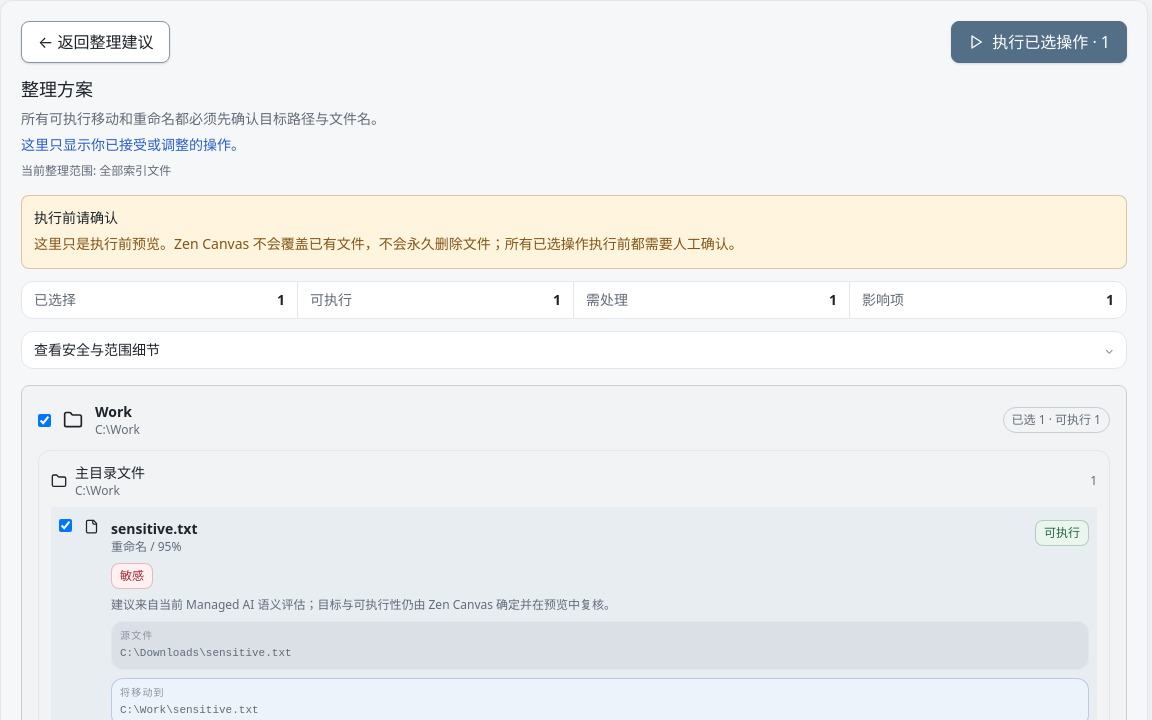
Test: organize v4.2.1 component interactions › renders the sensitive confirmation with real dialog semantics
Click the button "执行已选操作 · 1" at (1039, 42), box 951,21 -> 1127,63
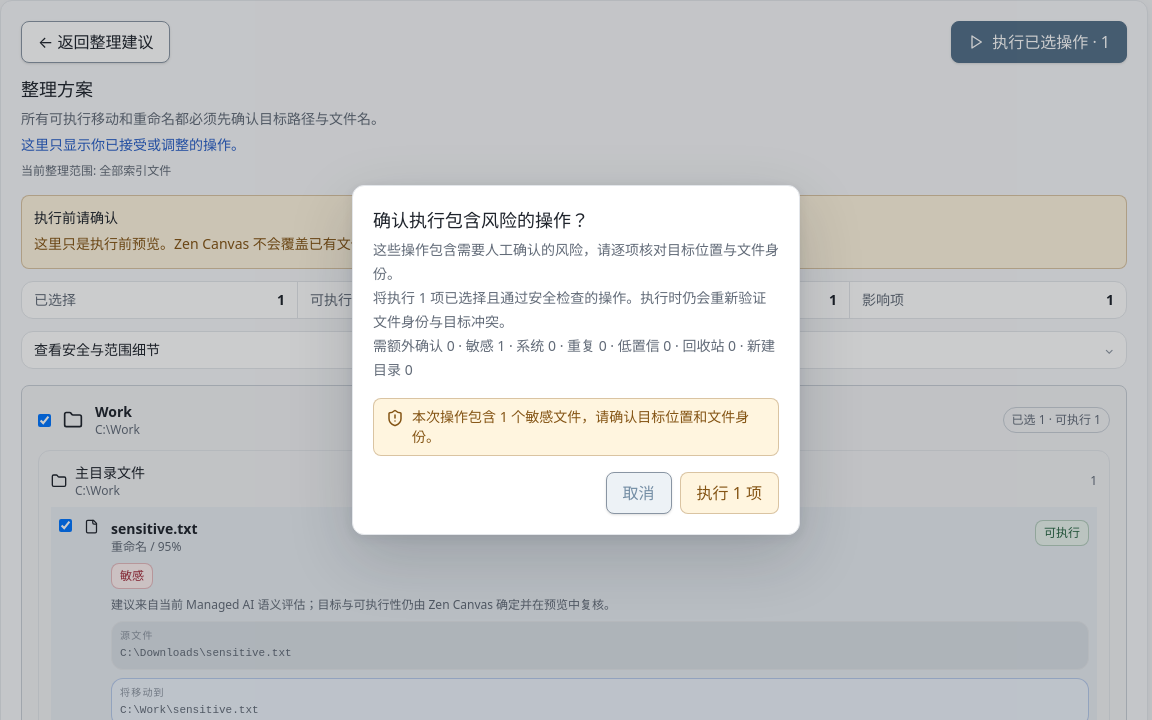
Expected: the dialog shows "确认执行包含风险的操作", 373,208 -> 589,232
Expected: the dialog shows "1", 373,240 -> 779,379
